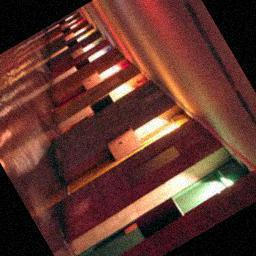Puerta: (70, 171, 230, 256)
